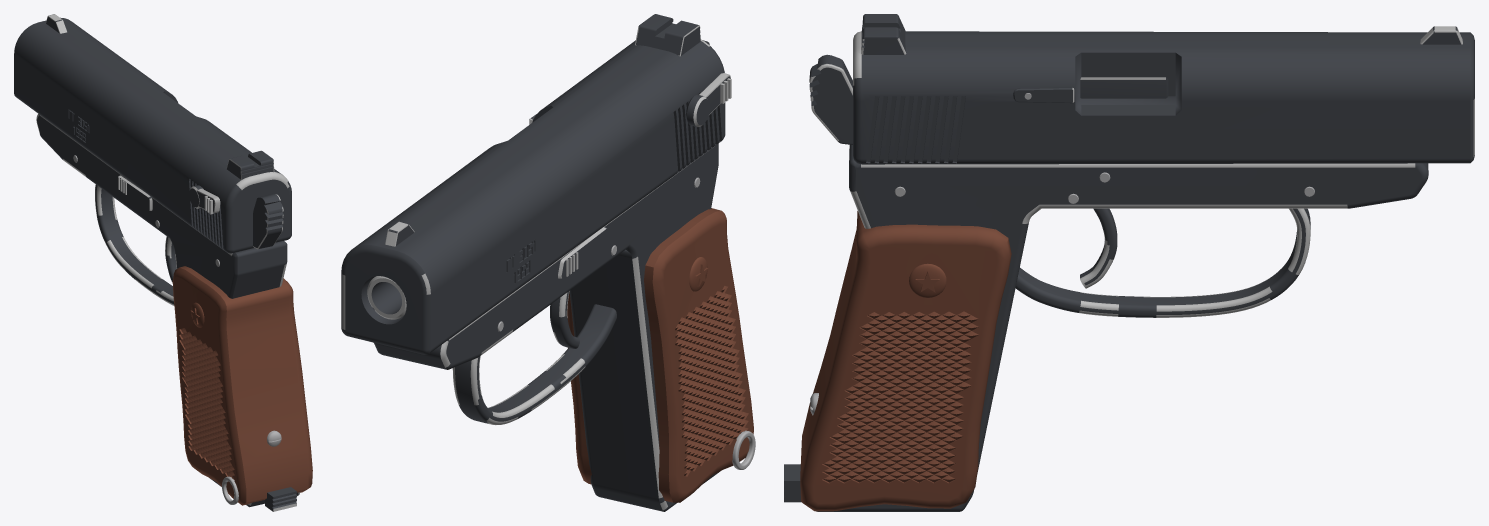
Rendered from pm_pistol.glb.
3 views of the same model, side by side, from view 1: azimuth 30°, elevation 25°; view 2: azimuth 150°, elevation 25°; view 3: azimuth 270°, elevation 25° (orthographic). The views are drawn at different scales.
Visible parts, largest first — view 1: static_frame, bolt_slide, hammer, selector_safety, trigger; view 2: static_frame, bolt_slide, selector_safety, trigger; view 3: static_frame, bolt_slide, hammer, trigger.
Boxes of the visible parts, x1,y1,x2,y2 form: static_frame: (36, 113, 312, 511); bolt_slide: (14, 14, 291, 253); hammer: (253, 193, 283, 249); selector_safety: (189, 185, 220, 214); trigger: (165, 236, 176, 282); static_frame: (367, 143, 755, 511); bolt_slide: (341, 14, 725, 354); selector_safety: (686, 73, 731, 126); trigger: (550, 291, 579, 348); static_frame: (784, 77, 1428, 511); bolt_slide: (853, 14, 1474, 164); hammer: (809, 54, 852, 144); trigger: (1080, 208, 1117, 288).
Bounding box in the file's own units: 0.0353 × 0.132 × 0.1755.
